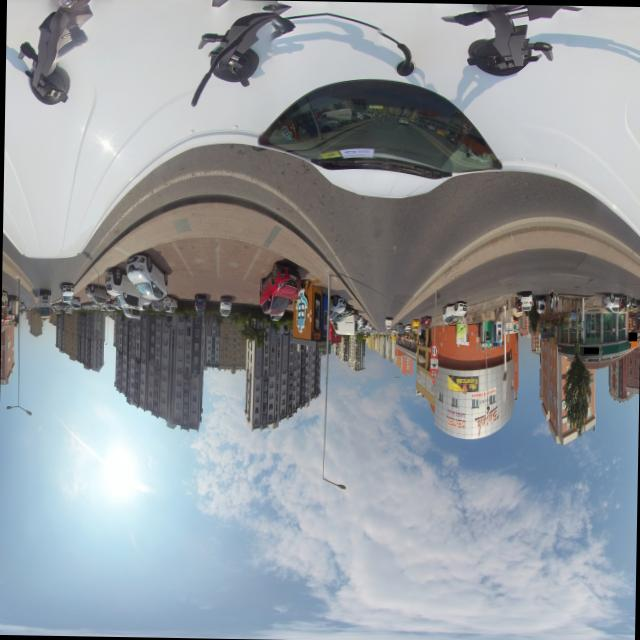SignStore: (582, 346, 598, 352), (627, 331, 636, 340)
